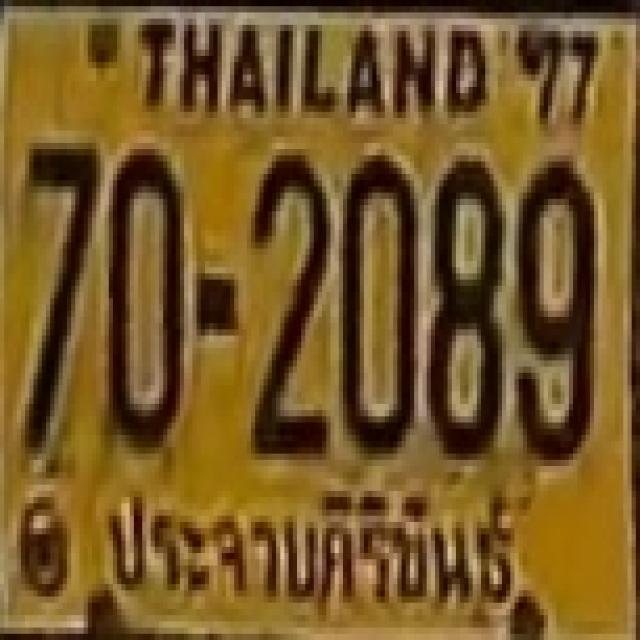0: (102, 146, 182, 444), (339, 152, 414, 451)
2: (247, 149, 328, 455)
7: (21, 137, 96, 441)
8: (427, 155, 498, 454)
9: (514, 158, 590, 457)
PKN: (92, 472, 529, 622)
